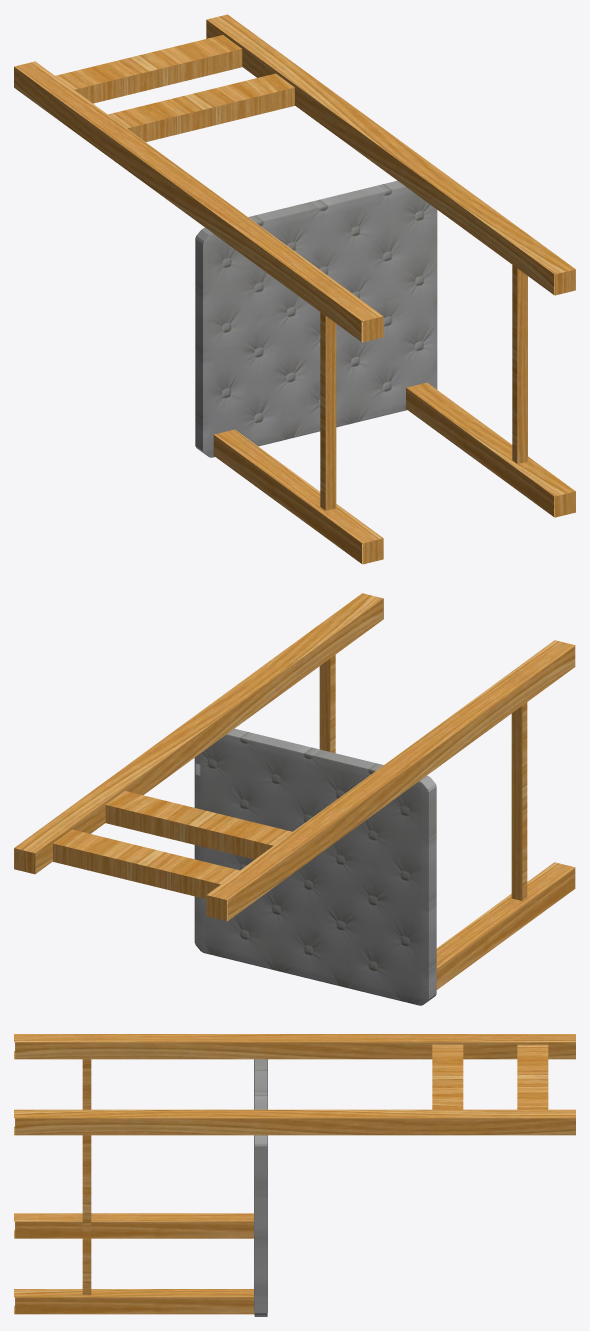
File: stuhl.fbx
3 views of the same model, one above another, from view 1: azimuth 30°, elevation 25°; view 2: azimuth 150°, elevation 25°; view 3: azimuth 270°, elevation 25° (orthographic). The views are drawn at different scales.
Visible parts, largest first — view 1: Cube.004; view 2: Cube.004; view 3: Cube.004.
Boxes of the visible parts, box(x1,y1,x2,y2) form: Cube.004: box(14, 14, 575, 564); Cube.004: box(14, 593, 575, 1005); Cube.004: box(14, 1034, 575, 1316).
Bounding box in the file's own units: 0.8 × 0.8 × 2.06.
Materials: 1 (1 with a texture image).
